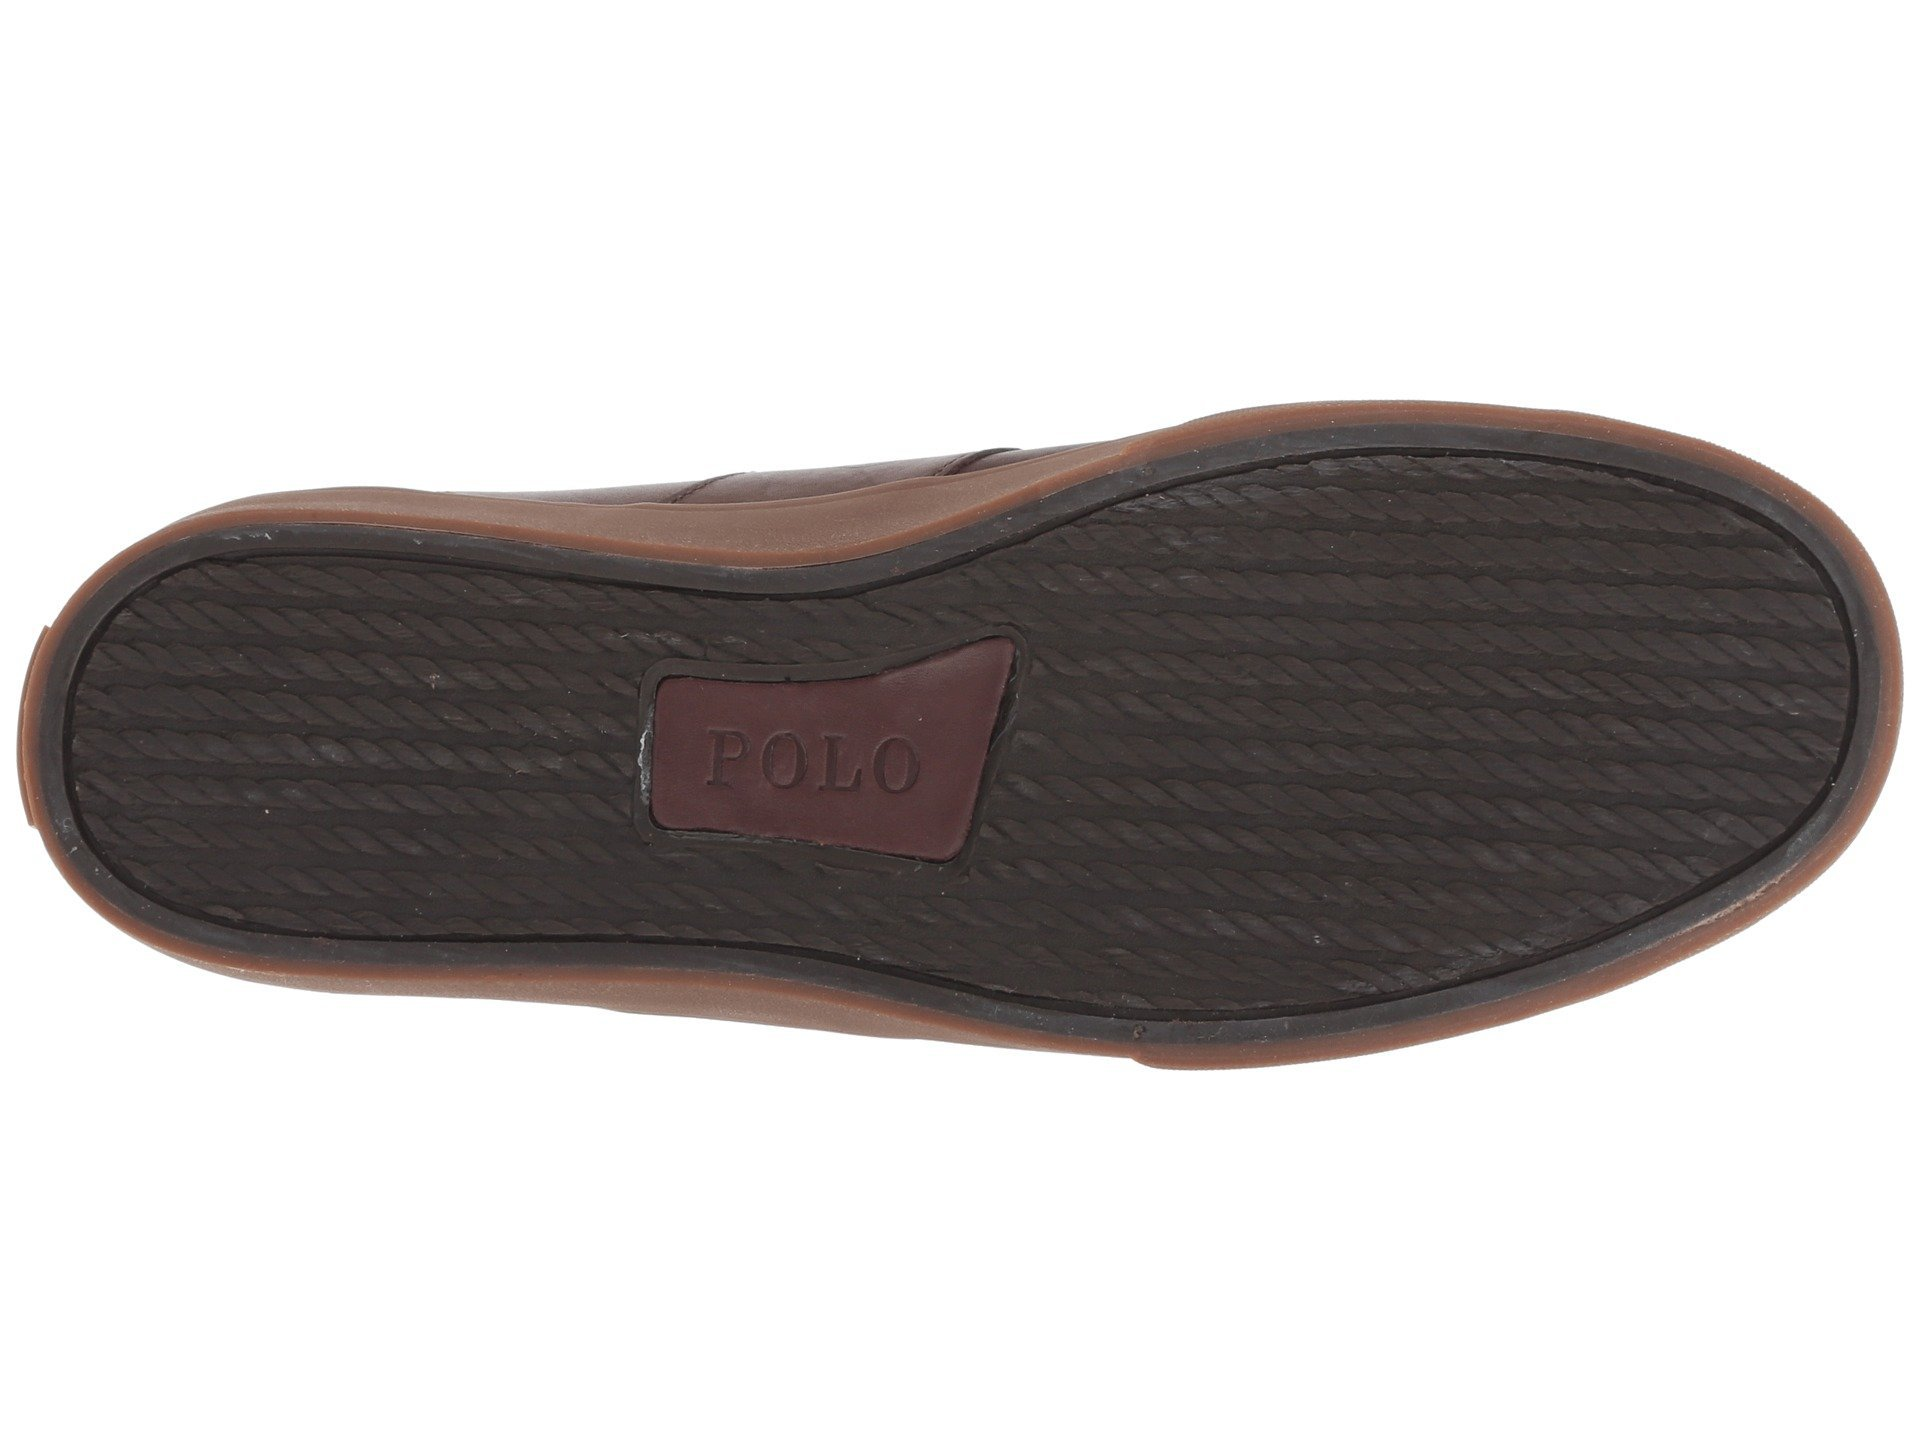circle: (587, 604, 1175, 930)
line: (587, 604, 1175, 930), (1256, 552, 1606, 908)
quad: (1256, 552, 1606, 908)
text: (587, 604, 1175, 930)
